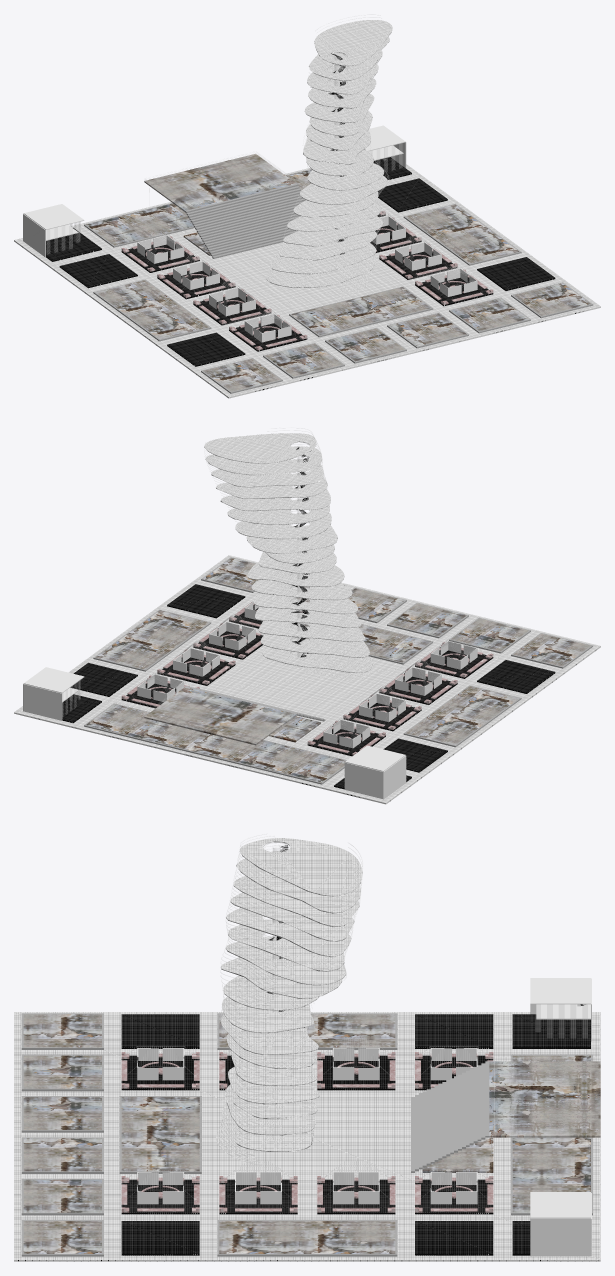
The picture shows the model from 3 angles, top to bottom: view 1: azimuth 30°, elevation 25°; view 2: azimuth 150°, elevation 25°; view 3: azimuth 270°, elevation 25°; orthographic projection. The views are drawn at different scales.
Parts seen in each view (by area): view 1: Merged Objects 3, Merged Objects, DEC-2023-R-80K, Merged Objects 4, Merged Objects 1, Merged Objects 2, Corner Builds Cover; view 2: Merged Objects 3, Merged Objects, DEC-2023-R-80K, Corner Builds Cover, Merged Objects 4, Merged Objects 1, Merged Objects 2; view 3: Merged Objects 3, Merged Objects, DEC-2023-R-80K, Merged Objects 4, Corner Builds Cover, Merged Objects 2, Merged Objects 1.
Boxes of the visible parts, box(x1,y1,x2,y2) form: Merged Objects 3: box(14, 20, 600, 398); Merged Objects: box(86, 153, 590, 391); DEC-2023-R-80K: box(46, 157, 555, 366); Merged Objects 4: box(84, 169, 593, 393); Merged Objects 1: box(47, 14, 477, 328); Merged Objects 2: box(121, 211, 493, 350); Corner Builds Cover: box(23, 125, 406, 257); Merged Objects 3: box(14, 433, 600, 804); Merged Objects: box(86, 558, 590, 782); DEC-2023-R-80K: box(62, 584, 555, 789); Corner Builds Cover: box(23, 667, 406, 799); Merged Objects 4: box(84, 557, 593, 784); Merged Objects 1: box(62, 428, 478, 751); Merged Objects 2: box(121, 602, 493, 755); Merged Objects 3: box(14, 838, 600, 1261); Merged Objects: box(23, 1014, 600, 1253); DEC-2023-R-80K: box(121, 1014, 590, 1255); Merged Objects 4: box(21, 1013, 592, 1256); Corner Builds Cover: box(530, 978, 591, 1256); Merged Objects 2: box(121, 1052, 493, 1212); Merged Objects 1: box(137, 833, 600, 1210).
Size of the model in its own units: 57 by 33.3 by 57.02.
Materials: 9 (4 with a texture image).
